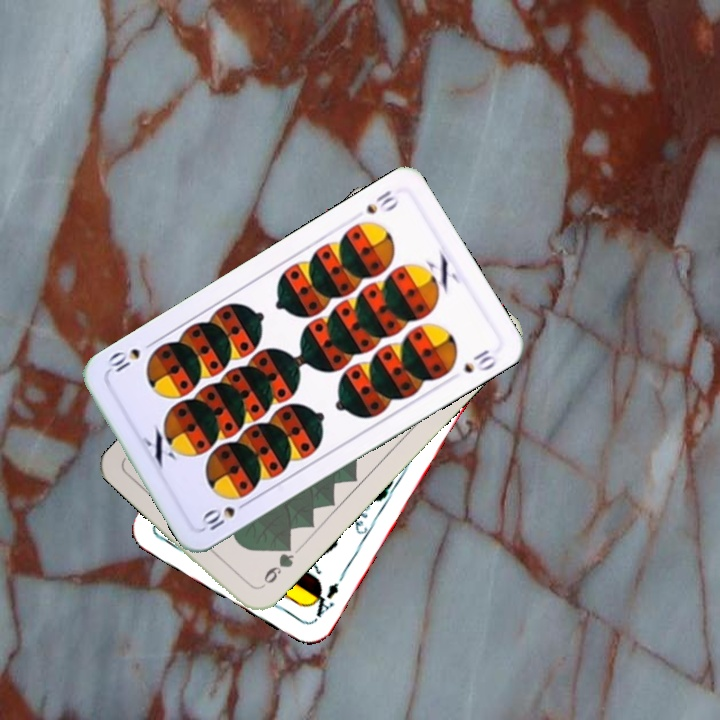EA: (306, 578, 341, 623)
G9: (255, 539, 297, 592)
S10: (198, 496, 253, 533), (362, 186, 402, 217)
